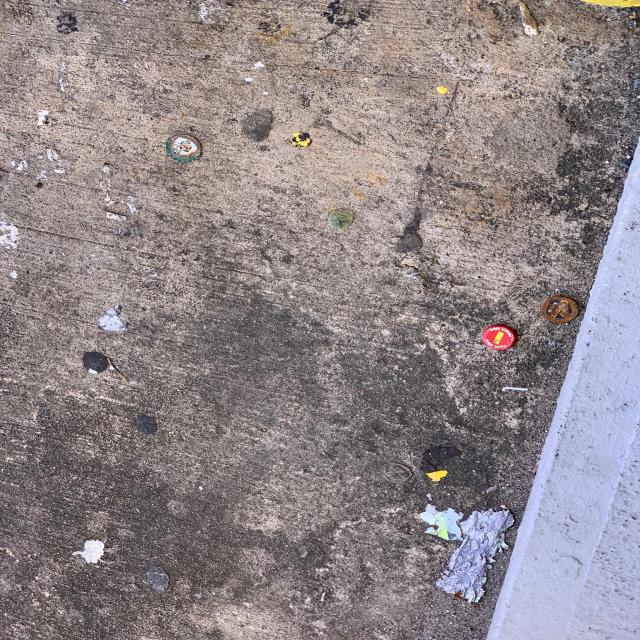litter: (402, 485, 522, 610), (475, 322, 524, 357), (160, 133, 208, 166)
